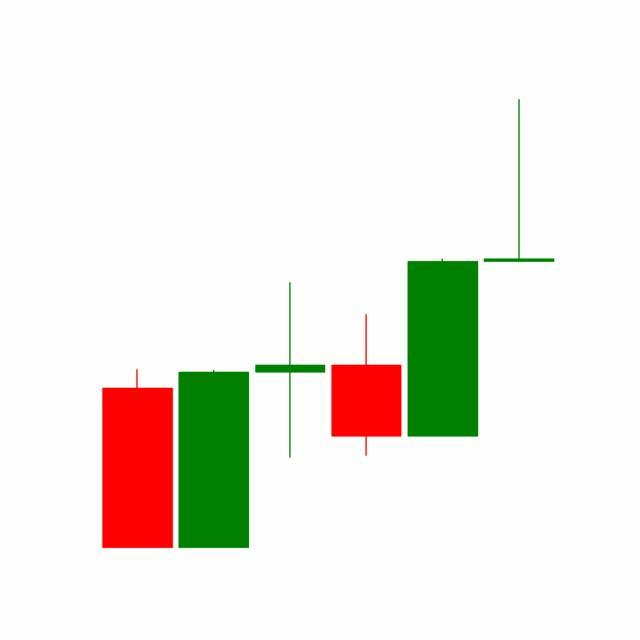Marubozu: (404, 256, 482, 439)
